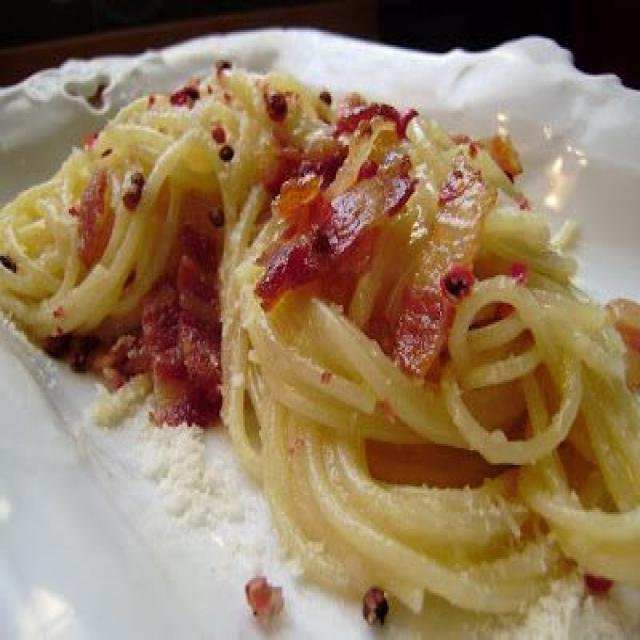Pasta with carbonara sauce: (13, 45, 640, 638)
